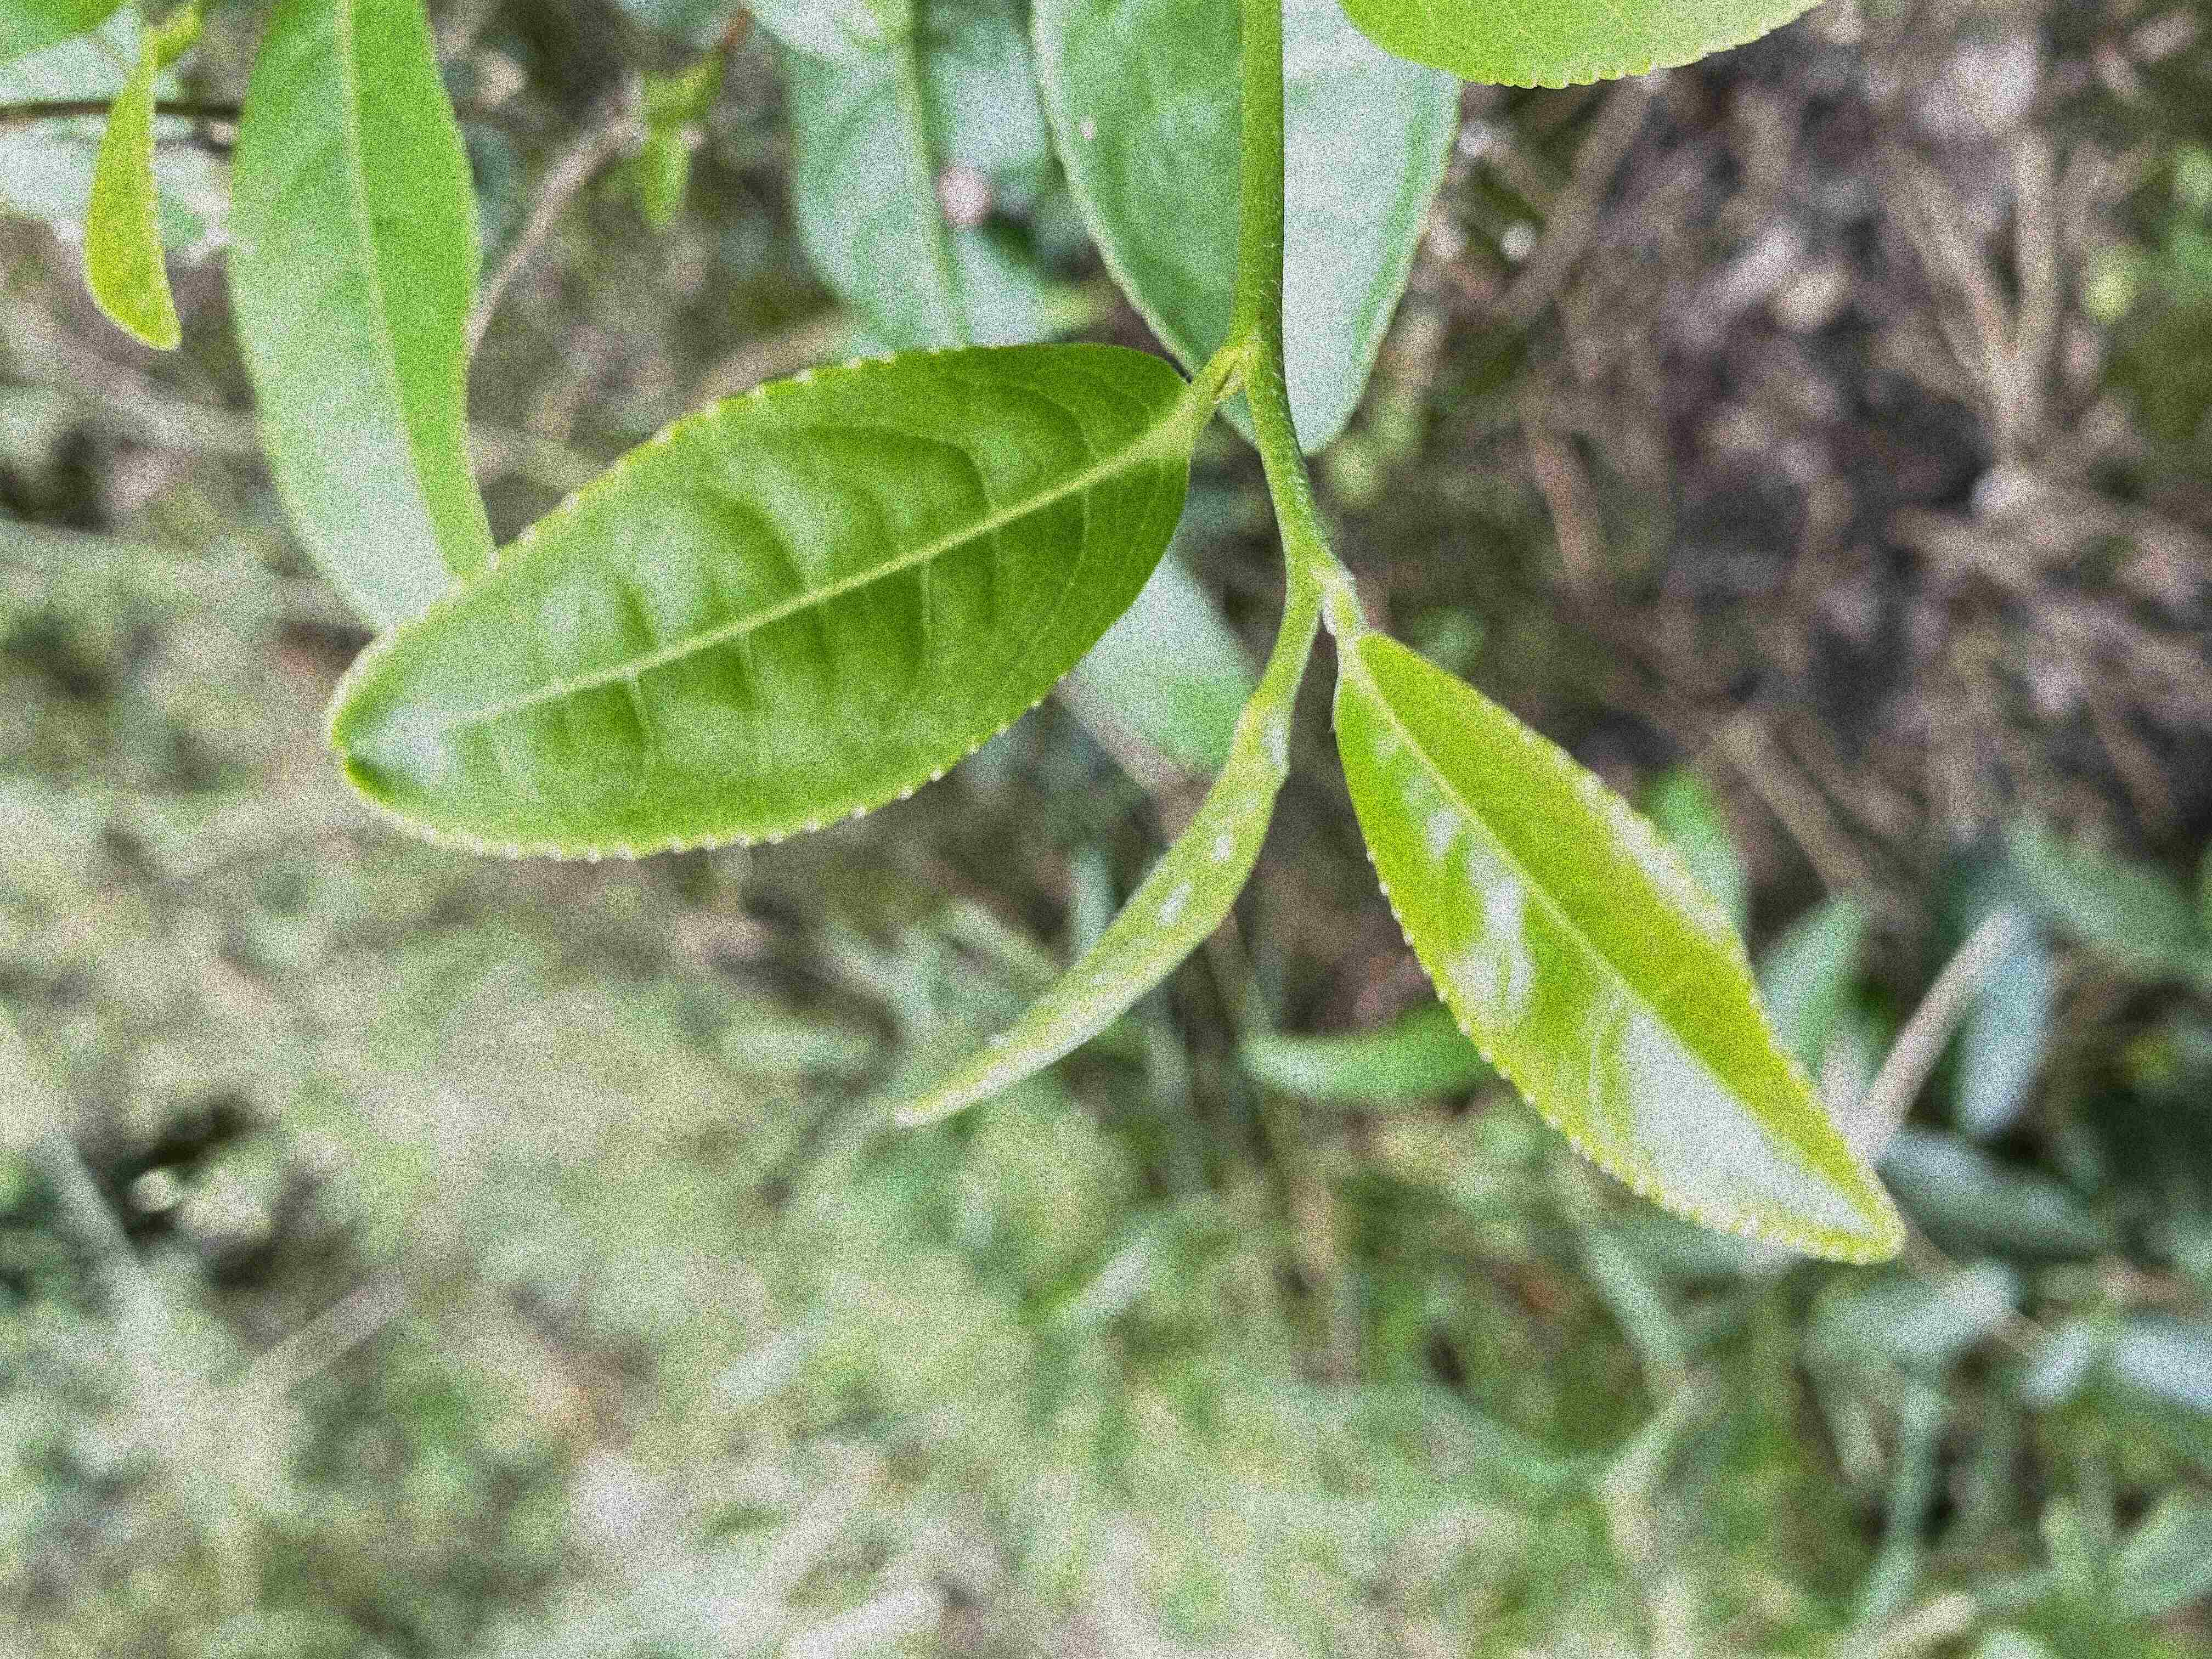healthy: (322, 335, 1198, 863), (1331, 627, 1909, 1265)
